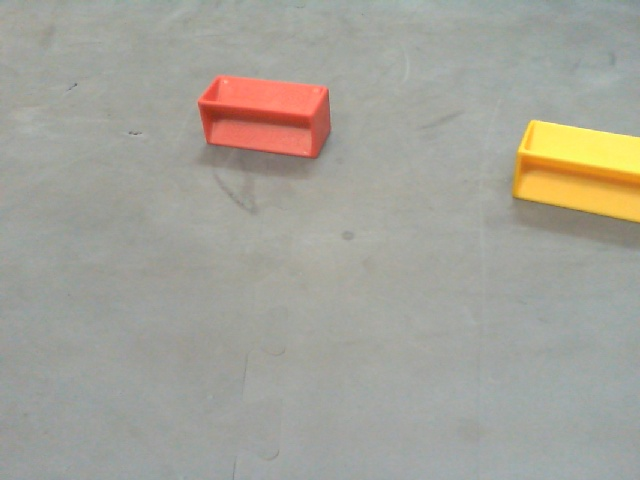RedSample: (197, 72, 333, 162)
YellowSample: (512, 120, 640, 232)
